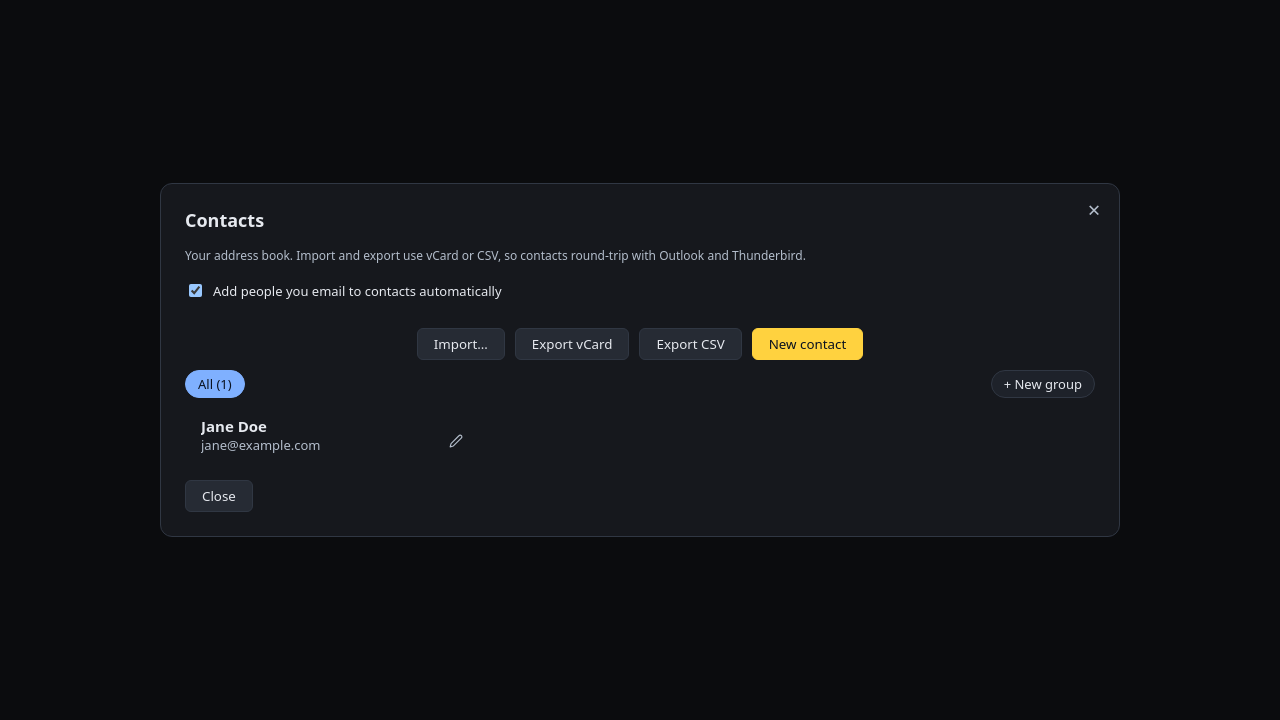
Scenario: ContactsModal: stacked editors › closes only the editor on Escape, leaving the address book open
Click the button named "Edit Jane Doe" at (456, 441), box [443,428,469,454]
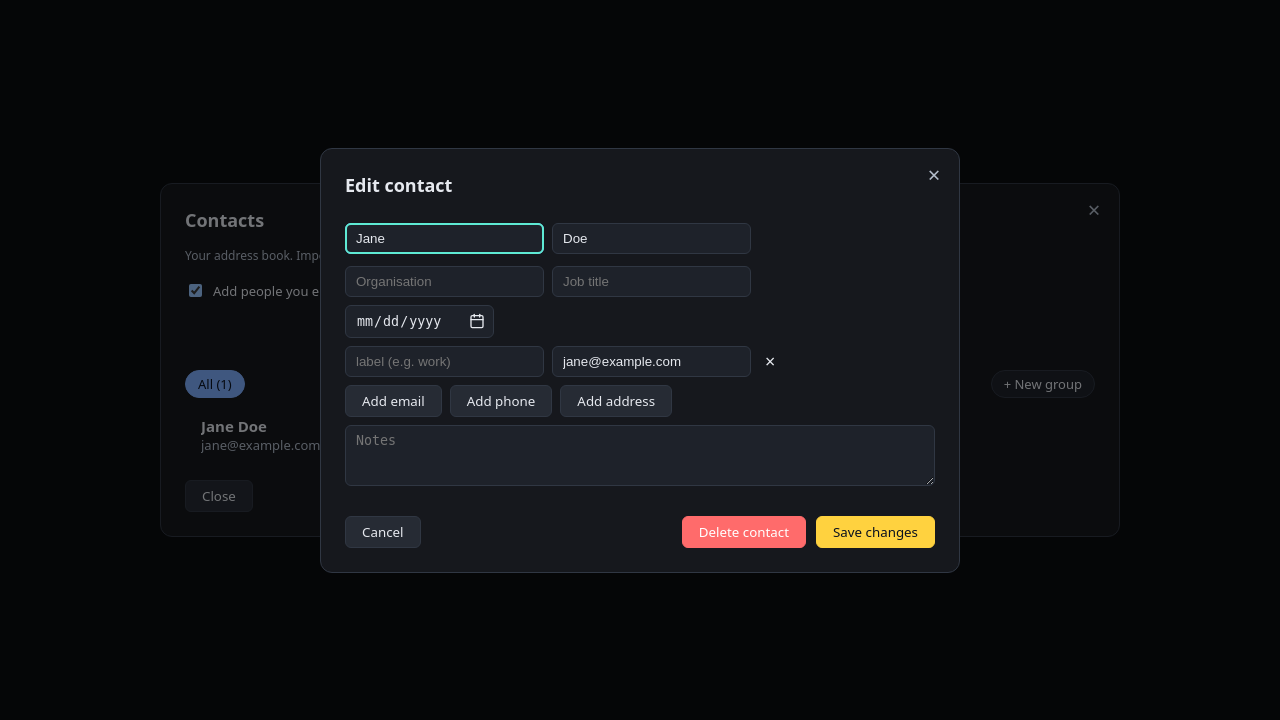
Check: the dialog "Edit contact" is shown, box [320,148,960,572]
Press Escape
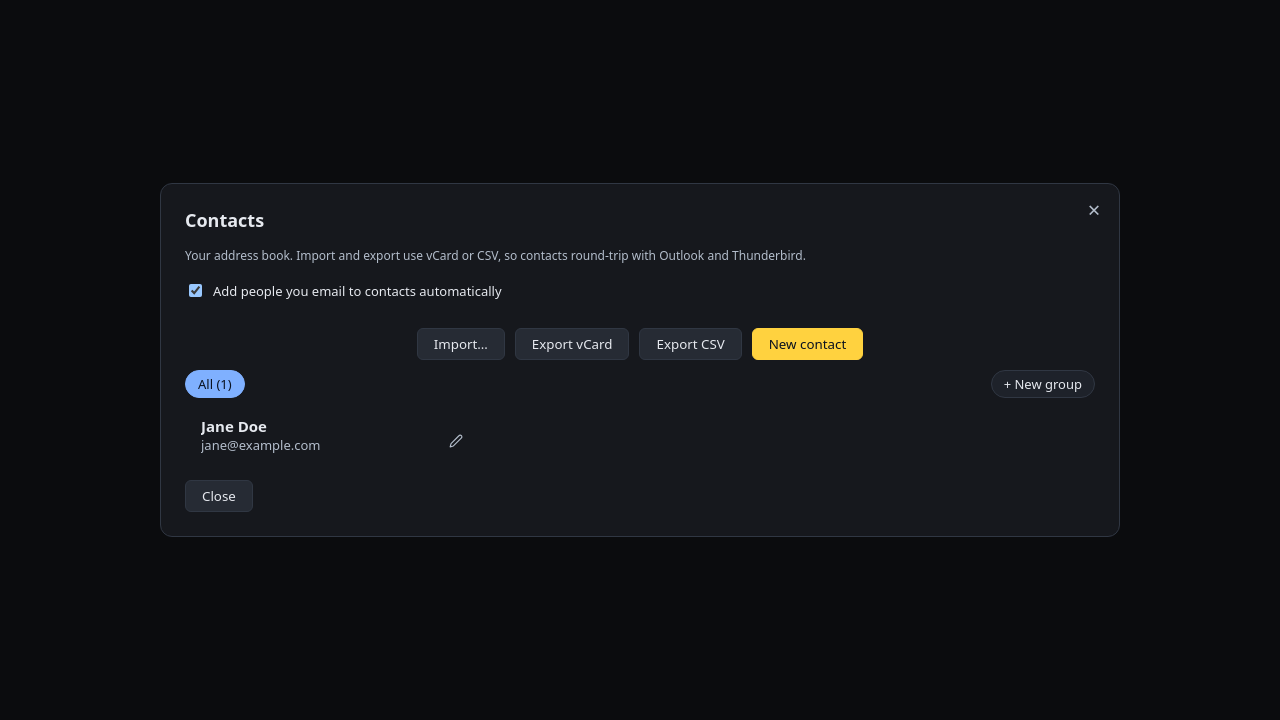
Check: the dialog "Contacts" is shown, box [160,183,1120,537]
Check: the heading "Edit contact" is gone
